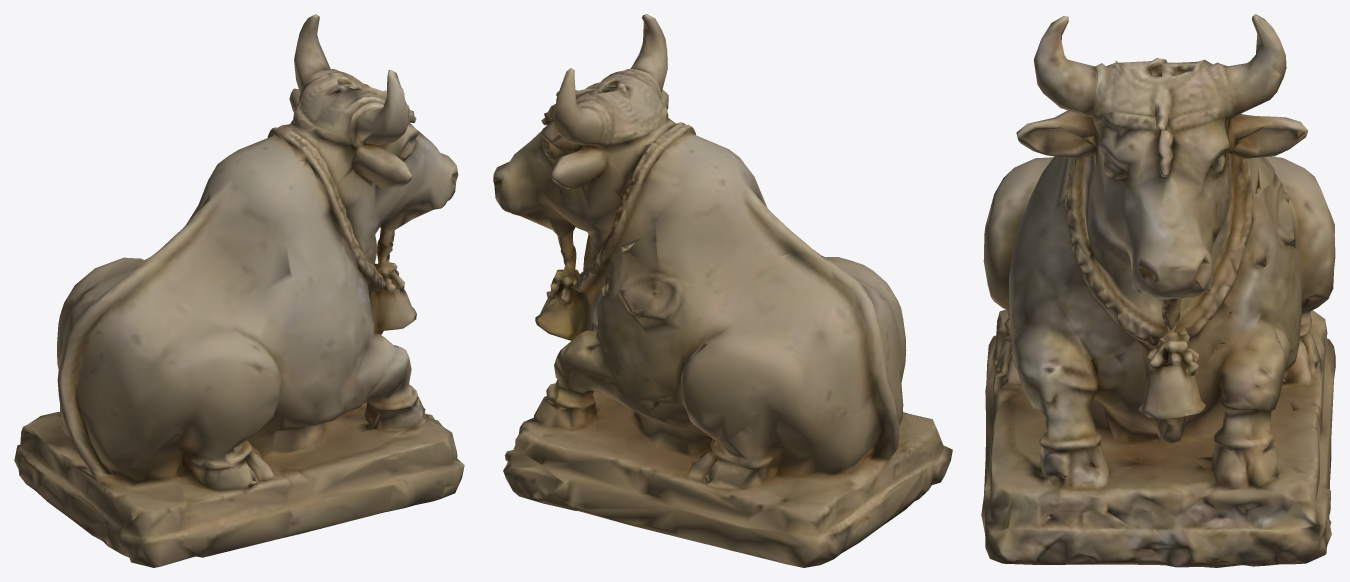
Rendered from nandi-lod.glb.
The picture shows the model from 3 angles, left to right: view 1: azimuth 30°, elevation 25°; view 2: azimuth 150°, elevation 25°; view 3: azimuth 270°, elevation 25°; orthographic projection. The views are drawn at different scales.
Visible parts, largest first — view 1: tripo_node_86295cc9-fb60-4ccf-8d8d-9fbdd05bf6ca; view 2: tripo_node_86295cc9-fb60-4ccf-8d8d-9fbdd05bf6ca; view 3: tripo_node_86295cc9-fb60-4ccf-8d8d-9fbdd05bf6ca.
Boxes of the visible parts, x1,y1,x2,y2 form: tripo_node_86295cc9-fb60-4ccf-8d8d-9fbdd05bf6ca: [14, 14, 464, 567]; tripo_node_86295cc9-fb60-4ccf-8d8d-9fbdd05bf6ca: [493, 14, 952, 567]; tripo_node_86295cc9-fb60-4ccf-8d8d-9fbdd05bf6ca: [981, 14, 1335, 567].
Size of the model in its own units: 0.9983 by 0.9996 by 0.6105.
1 material, 1 textured.
